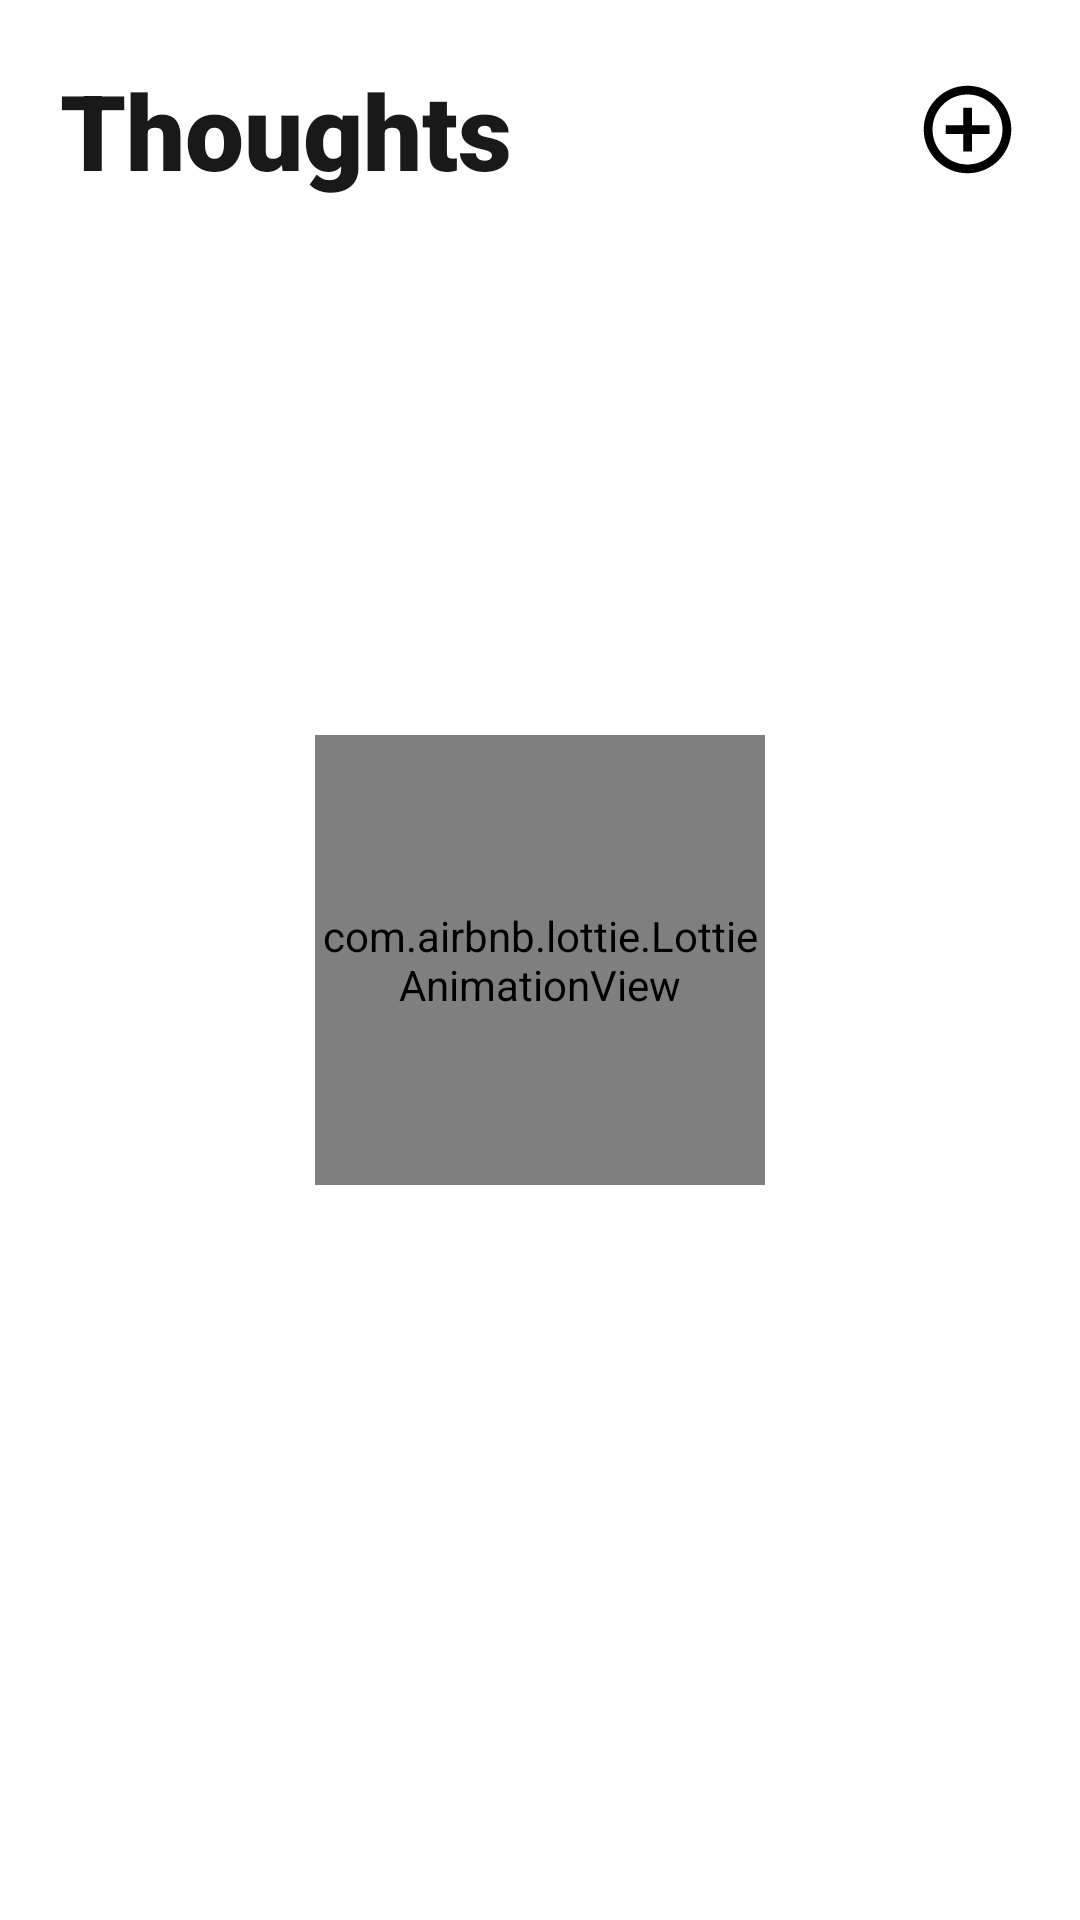

Icon click points for this 1080px x 1920px phone screenshot, format point (x, y):
add circle: point (967, 129)
